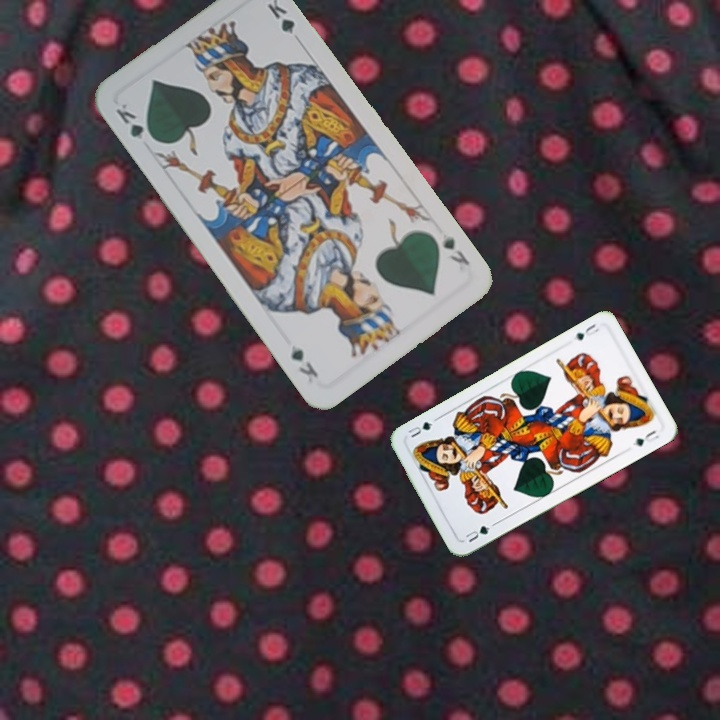GK: (111, 99, 159, 145), (438, 231, 473, 269)
GU: (569, 319, 602, 343), (461, 521, 493, 545)
